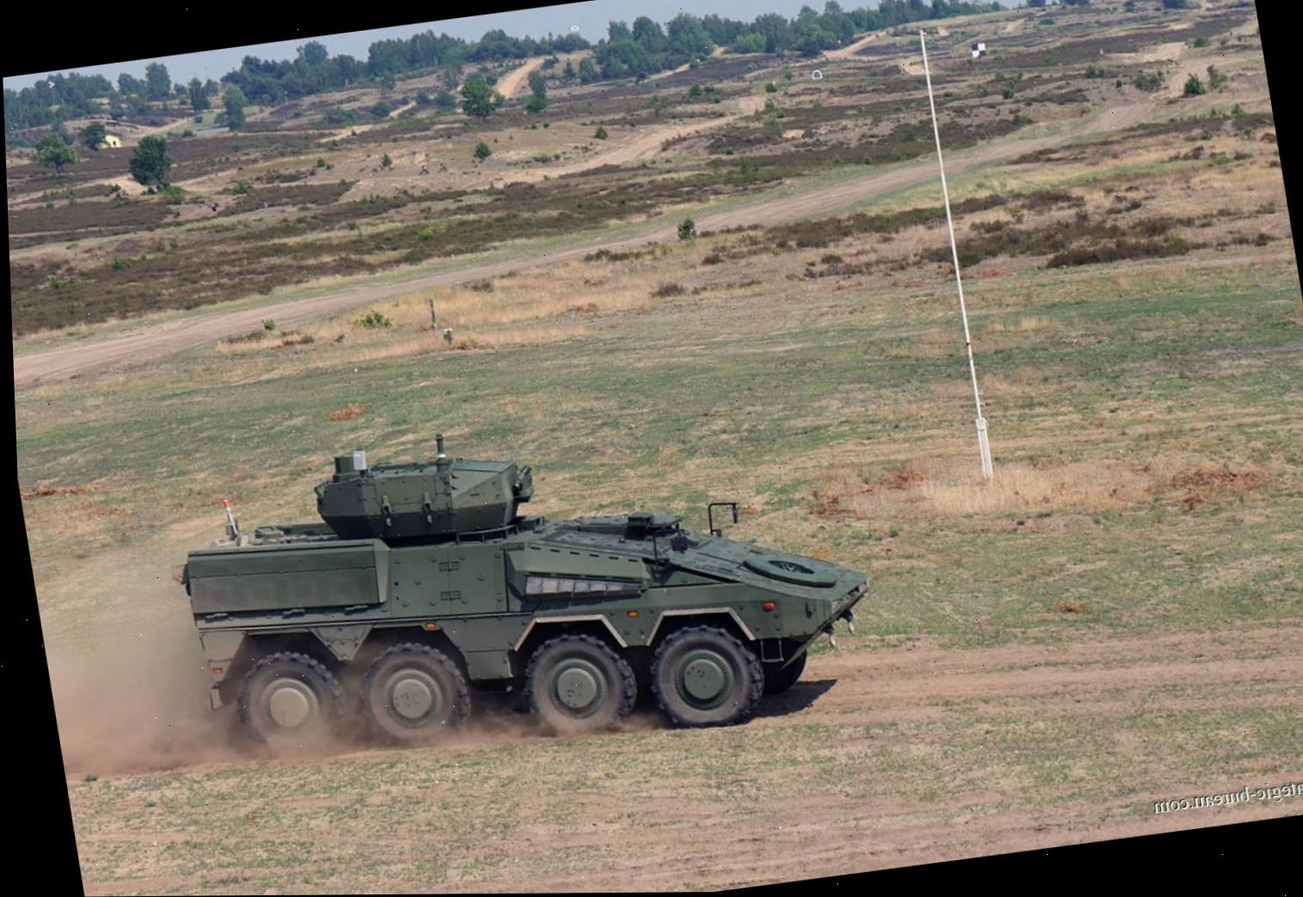armored_car: (154, 381, 887, 795)
